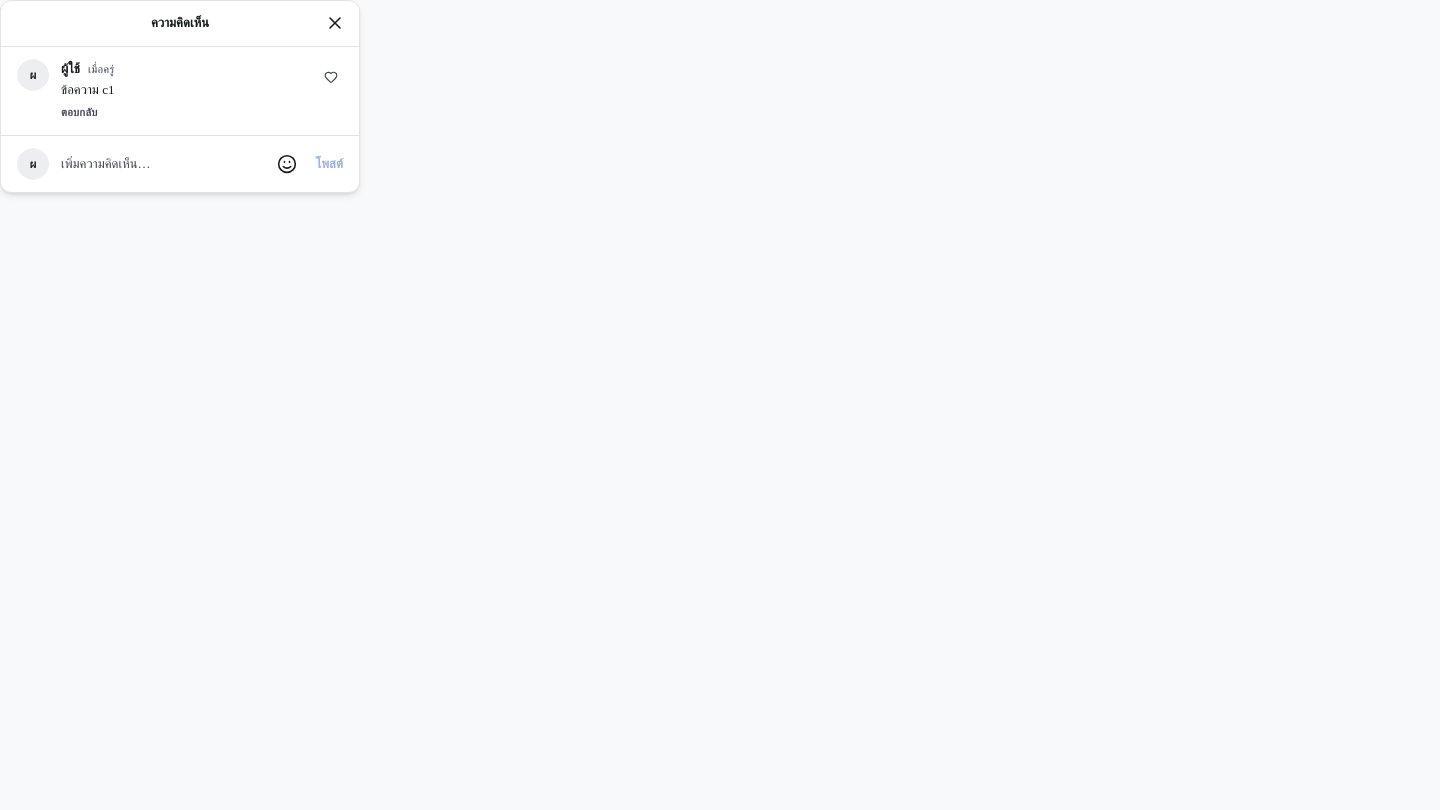
แผงความคิดเห็น › ✕ ที่แถบ "กำลังตอบกลับ" ยกเลิก และเอา @ชื่อ ออก
The image size is (1440, 810).
Click the button "ตอบกลับ": coordinates (79, 113) [61, 104, 98, 122]
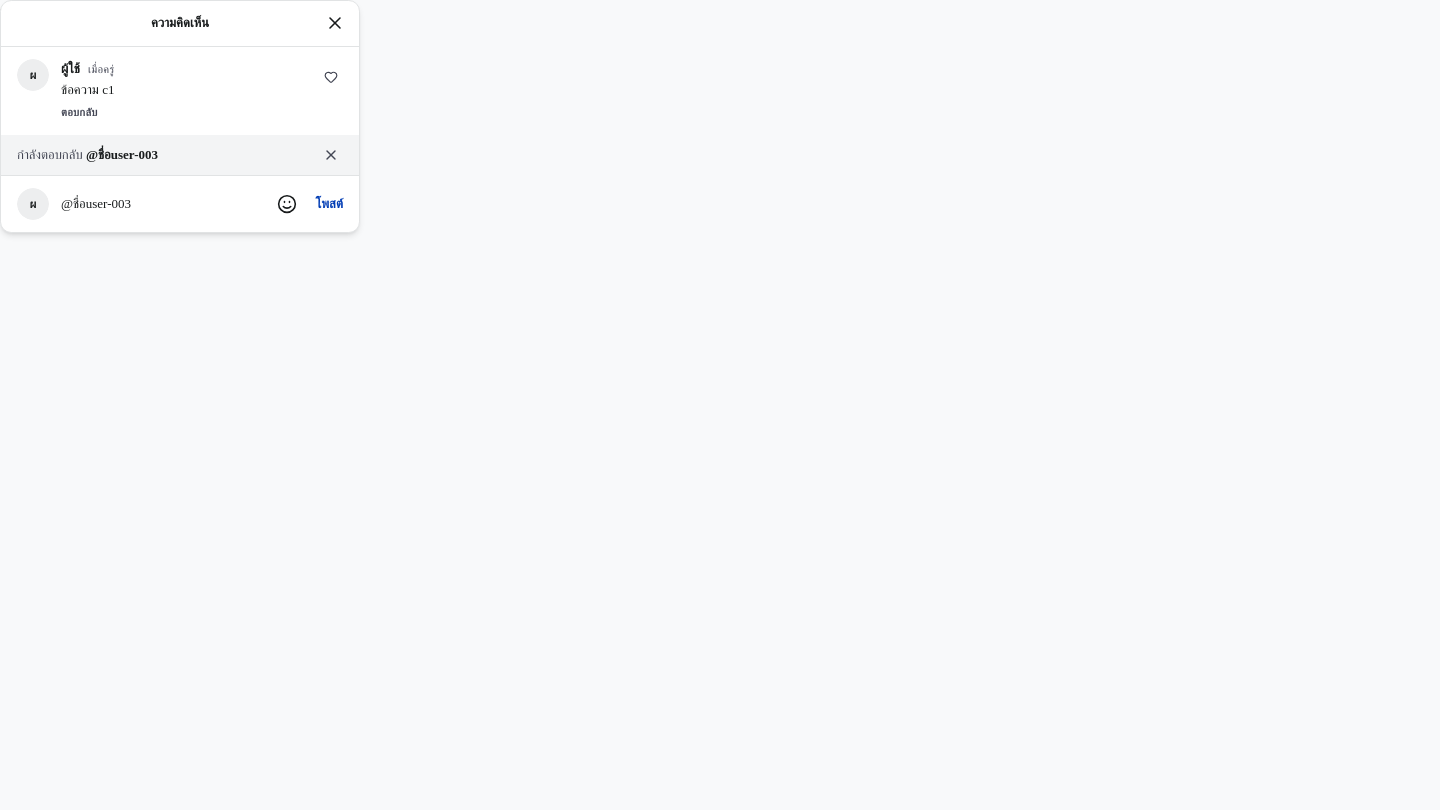
Click the button named "ยกเลิกการตอบกลับ": coordinates (331, 155) [319, 143, 343, 167]
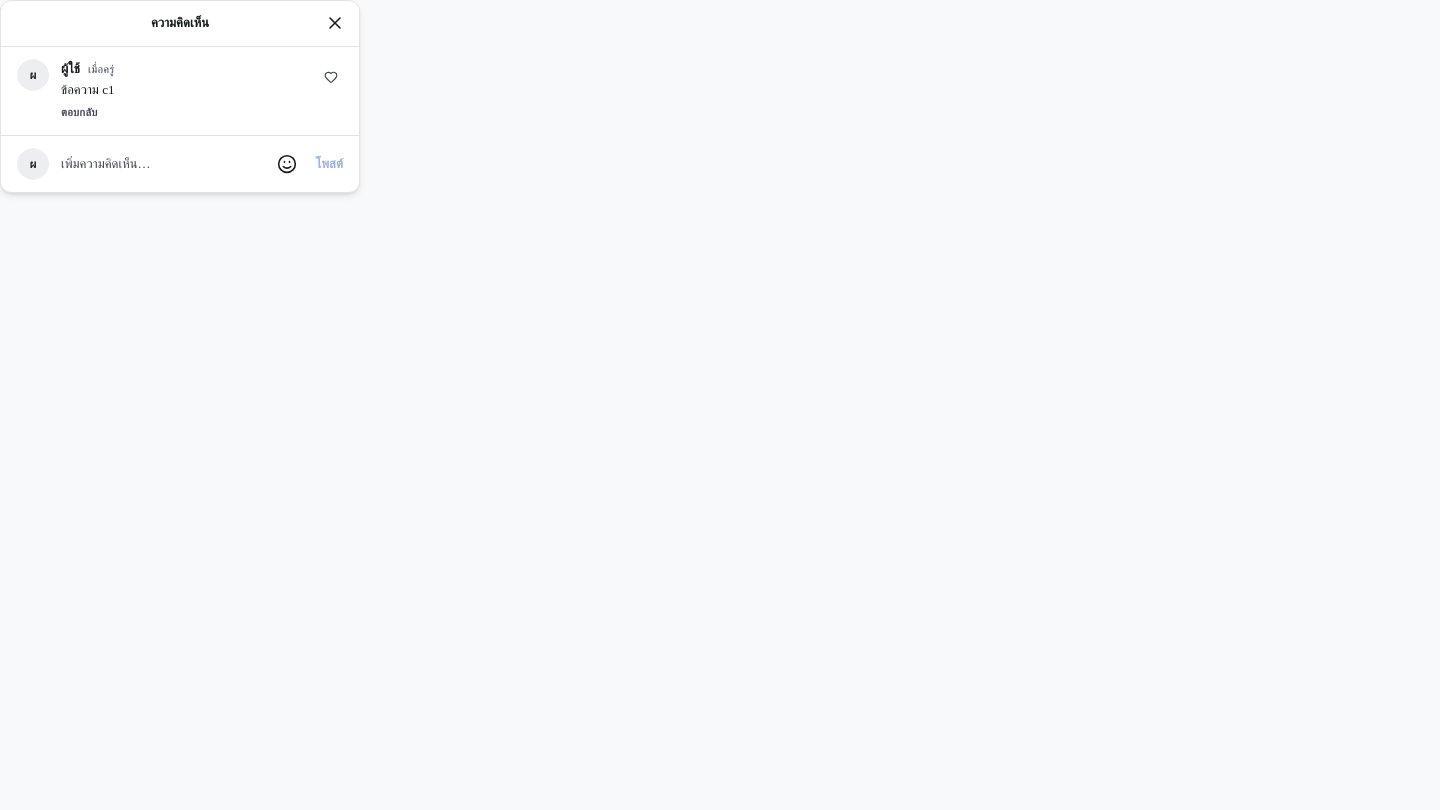
Check: the field labelled "เพิ่มความคิดเห็น" is empty, box [61, 154, 260, 174]
Check: the text "กำลังตอบกลับ" is gone
